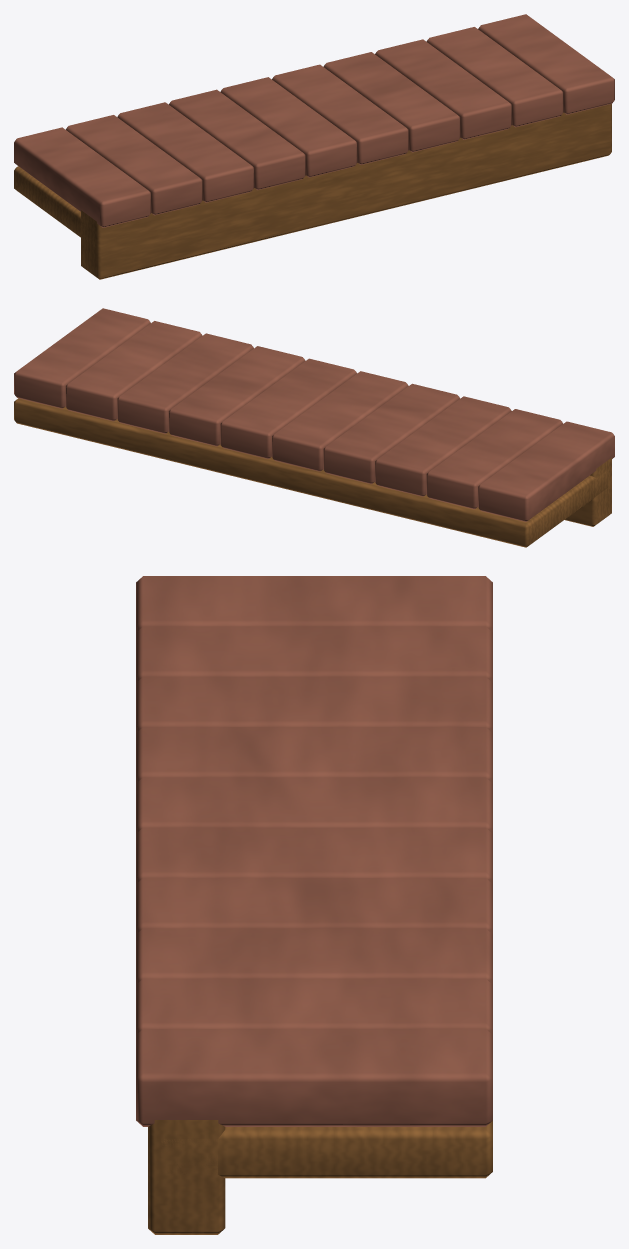
File: Furn_RoofEdge.fbx
3 renders of one model, top to bottom at view 1: azimuth 30°, elevation 25°; view 2: azimuth 150°, elevation 25°; view 3: azimuth 270°, elevation 25°, orthographic. The views are drawn at different scales.
Parts seen in each view (by area): view 1: Furn_RoofEdge_Mesh; view 2: Furn_RoofEdge_Mesh; view 3: Furn_RoofEdge_Mesh.
Part boxes in pixels (x1=…): Furn_RoofEdge_Mesh: x1=14, y1=14, x2=614, y2=279; Furn_RoofEdge_Mesh: x1=14, y1=308, x2=614, y2=547; Furn_RoofEdge_Mesh: x1=136, y1=576, x2=492, y2=1234.
Size of the model in its own units: 2 by 0.3 by 0.6.
